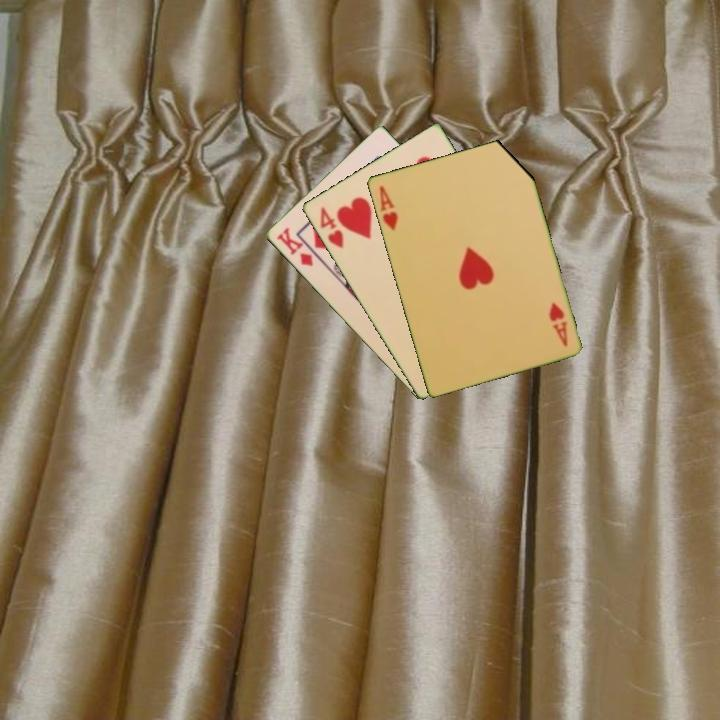4h: (316, 203, 346, 251)
Ah: (375, 182, 400, 233), (545, 299, 570, 349)
Kd: (273, 224, 316, 270)
